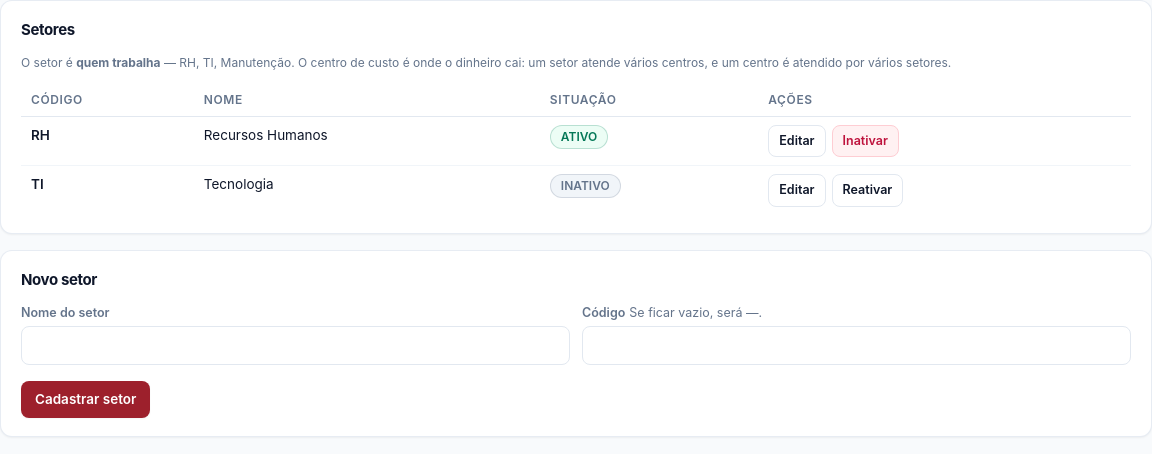
it: <Setores /> › mostra, antes de salvar, o código que vai ser gerado
Expected: the table with test id "tabela-setores" is shown, left=21, top=84, right=1131, bottom=215
Type "Manutenção Predial" into the field labelled "Nome do setor" at (296,346), box left=21, top=326, right=570, bottom=365
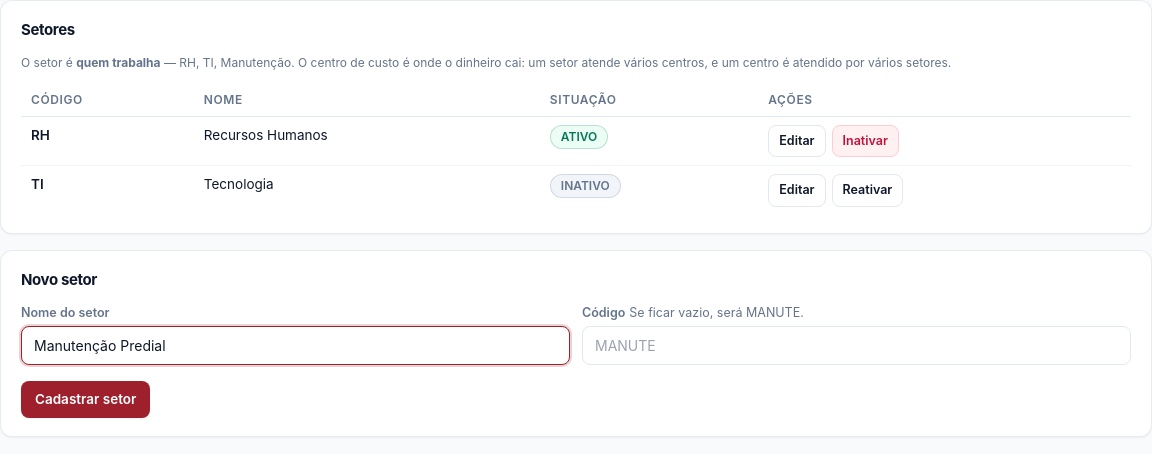
Expected: the text "Se ficar vazio, será MANUTE." is shown, left=629, top=304, right=804, bottom=320
